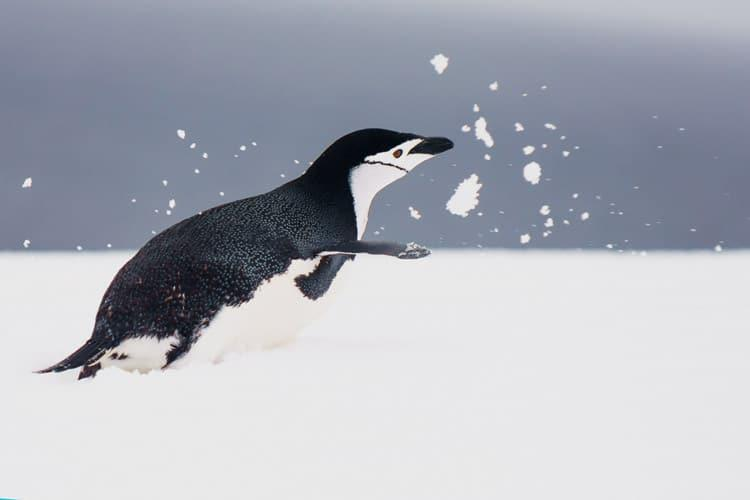chinstrap: (37, 118, 476, 429)
